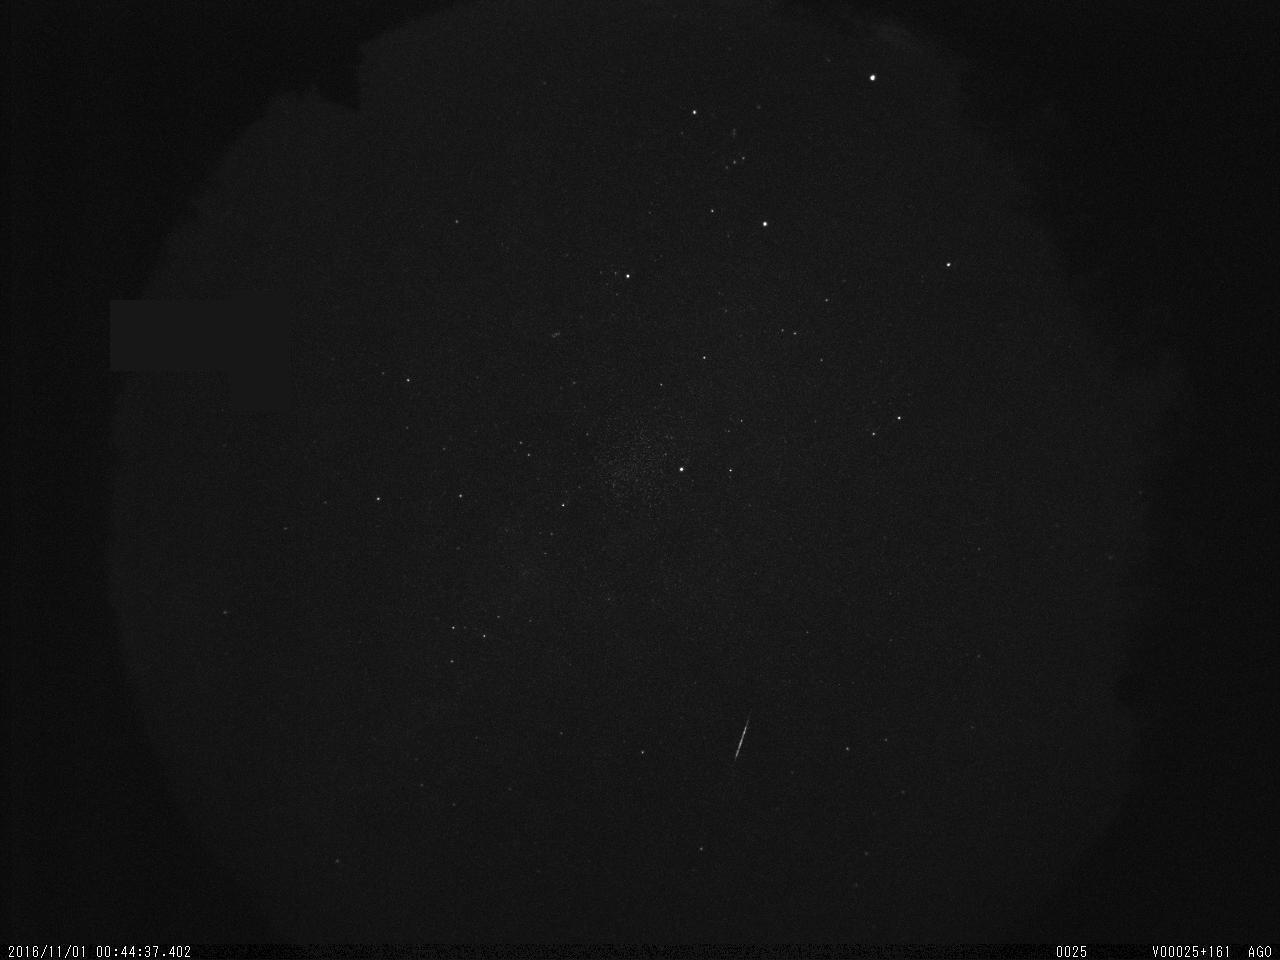Meteor: (730, 708, 754, 768)
